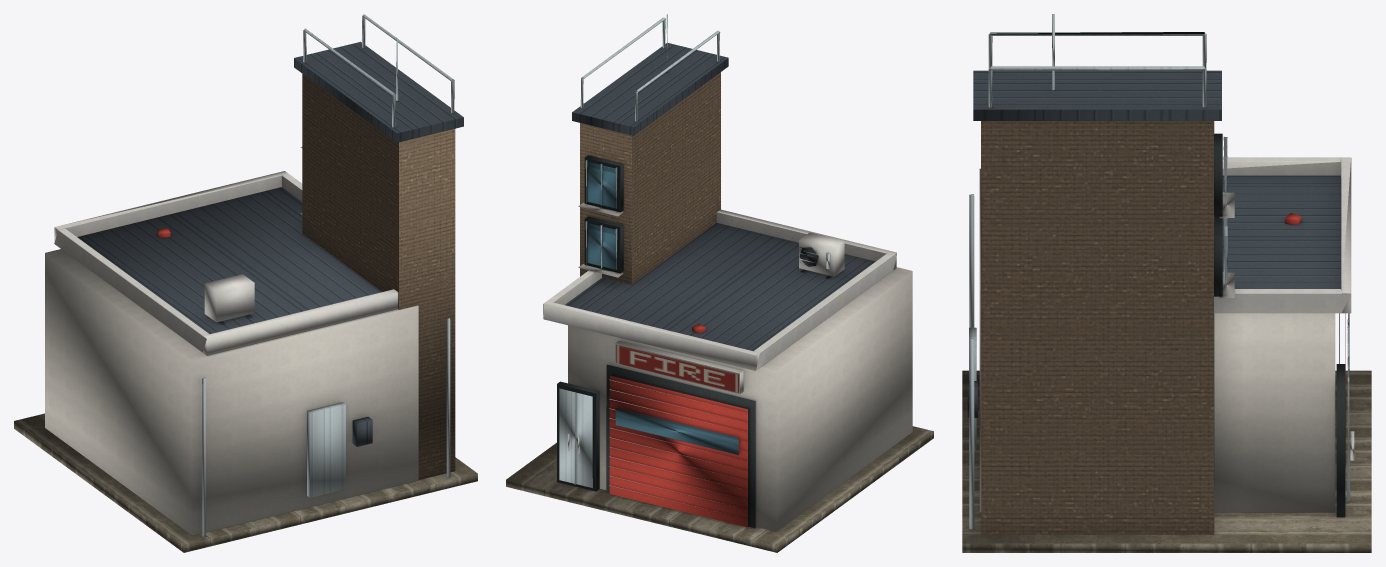
The model's file is public_002.obj.
3 renders of one model, left to right at view 1: azimuth 30°, elevation 25°; view 2: azimuth 150°, elevation 25°; view 3: azimuth 270°, elevation 25°, orthographic. The views are drawn at different scales.
Parts seen in each view (by area): view 1: public_002; view 2: public_002; view 3: public_002.
Part boxes in pixels (<box>): public_002: <box>14,14,477,552</box>; public_002: <box>506,14,933,552</box>; public_002: <box>962,14,1371,552</box>.
Bounding box in the file's own units: 6.5 × 9 × 6.5.
Materials: 1 (1 with a texture image).
